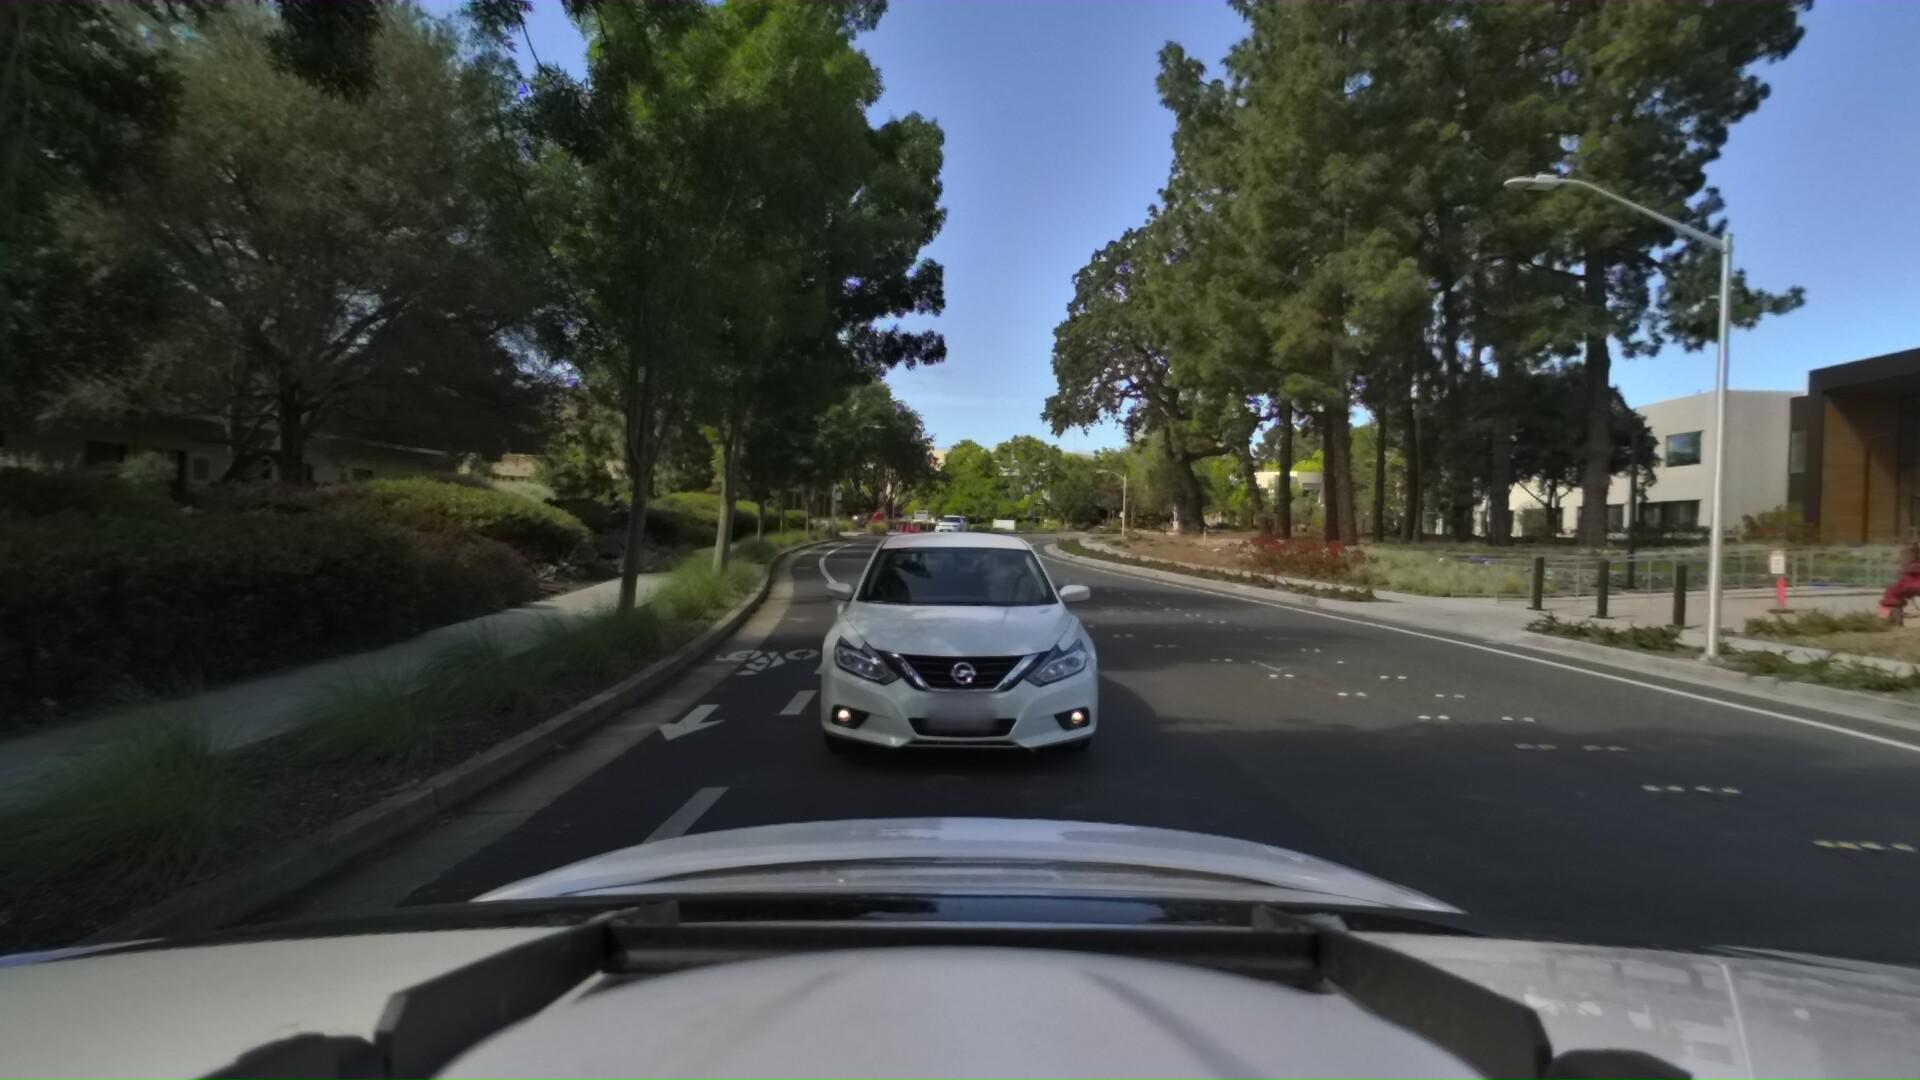car: (796, 496, 1127, 783), (928, 509, 971, 535)
